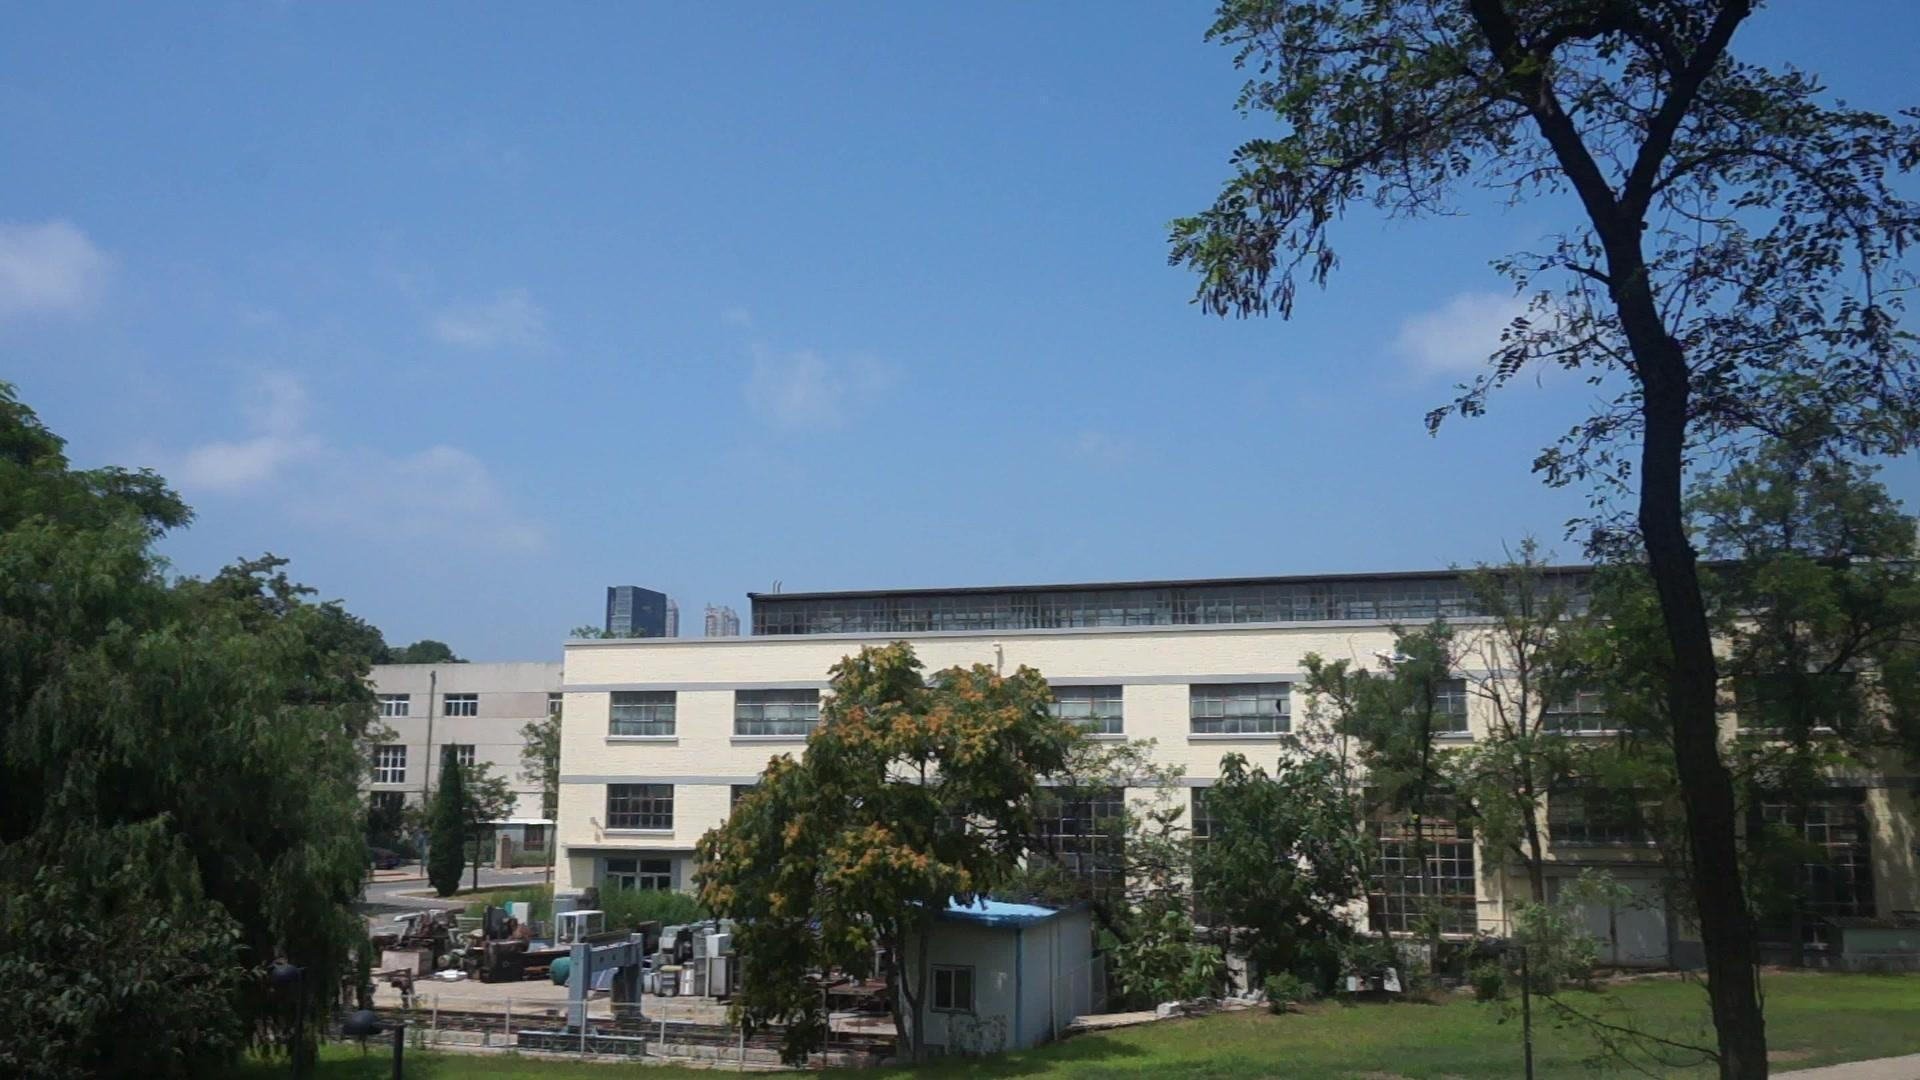UAV: (1369, 650, 1418, 673)
